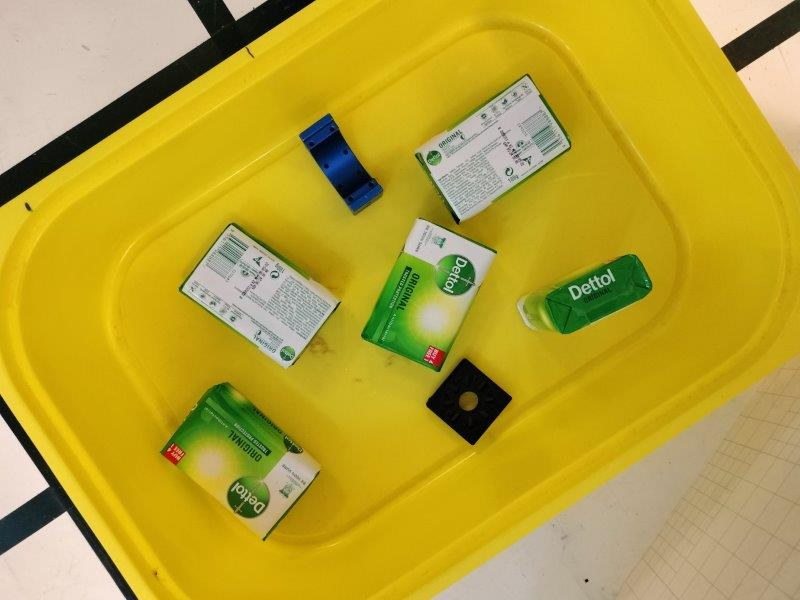Dettol: (162, 382, 321, 541), (413, 73, 573, 223), (180, 223, 342, 371), (362, 218, 496, 372), (520, 253, 652, 336)
